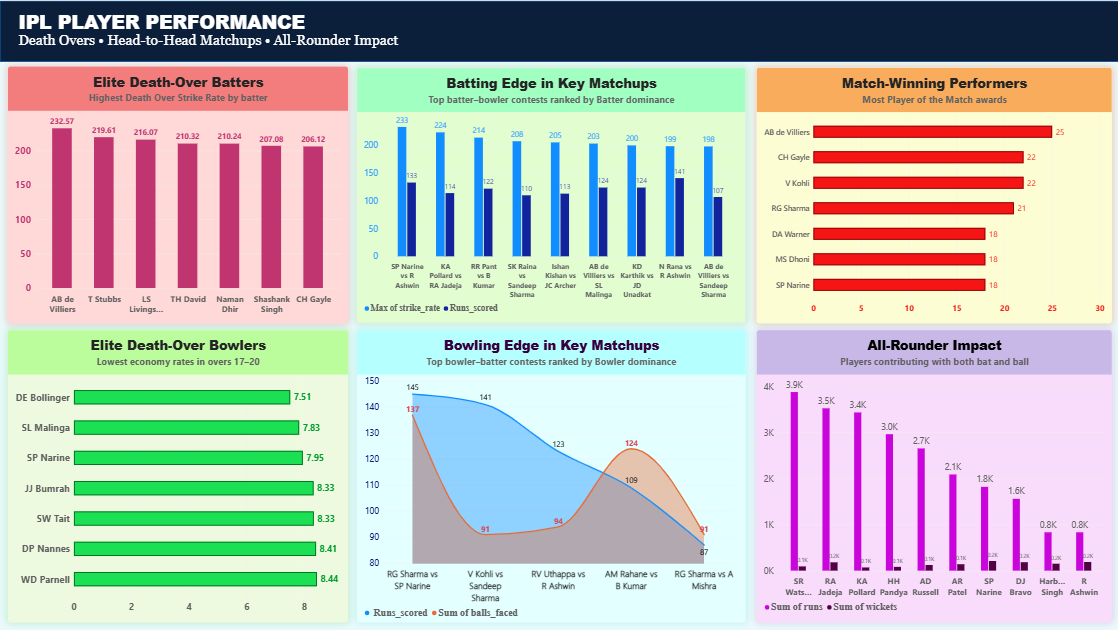

The page's visual inventory and layout, read from the dashboard file:
{"tool":"powerbi","page":{"name":"Player performance","canvas":[2560,1440],"ordinal":1},"visuals":[{"type":"clusteredBarChart","title":"Match-Winning Performers","fields":{"Category":["ipl_analytics matches.player_of_match"],"Y":["ipl_analytics matches.Player of the Match Awards"]},"box":[1727.3,150,813.6,586.4],"z":0},{"type":"clusteredColumnChart","title":"Elite Death-Over Batters","fields":{"Category":["ipl_analytics deliveries.batter"],"Y":["ipl_analytics deliveries.Death Over Strike Rate"]},"box":[15.9,147.7,779.5,588.6],"z":1000},{"type":"clusteredBarChart","title":"Elite Death-Over Bowlers","fields":{"Category":["ipl_analytics deliveries.bowler"],"Y":["ipl_analytics deliveries.Death Over Economy"]},"box":[15.9,752.3,779.5,670.5],"z":2000},{"type":"clusteredColumnChart","title":"Batting Edge in Key Matchups","fields":{"Category":["ipl_analytics batter_vs_bowler.Matchup"],"Y":["Max(ipl_analytics batter_vs_bowler.strike_rate)","Sum(ipl_analytics batter_vs_bowler.runs_scored)"]},"box":[813.6,150,890.9,586.4],"z":3000},{"type":"areaChart","title":"Bowling Edge in Key Matchups","fields":{"Category":["ipl_analytics batter_vs_bowler.Matchup"],"Y":["Sum(ipl_analytics batter_vs_bowler.runs_scored)","Sum(ipl_analytics batter_vs_bowler.balls_faced)"]},"box":[813.6,752.3,890.9,670.5],"z":4000},{"type":"clusteredColumnChart","title":"All-Rounder Impact","fields":{"Category":["ipl_analytics player_season_stats.player"],"Y":["Sum(ipl_analytics player_season_stats.runs)","Sum(ipl_analytics player_season_stats.wickets)"]},"box":[1727.3,752.3,813.6,670.5],"z":5000},{"type":"shape","box":[0,0,2561,139],"z":6000},{"type":"textbox","box":[0,17.1,1900,78],"z":7000},{"type":"textbox","box":[0,70.7,1919.5,68.3],"z":8000}]}

Visuals, with their boxes in screenshot pixels (x1, y1, x2, y2), scaled from the page's 2560x1440 canvas onto the 1118x630 screenshot:
"Match-Winning Performers" clusteredBarChart: <bbox>754, 66, 1110, 322</bbox>
"Elite Death-Over Batters" clusteredColumnChart: <bbox>7, 65, 347, 322</bbox>
"Elite Death-Over Bowlers" clusteredBarChart: <bbox>7, 329, 347, 622</bbox>
"Batting Edge in Key Matchups" clusteredColumnChart: <bbox>355, 66, 744, 322</bbox>
"Bowling Edge in Key Matchups" areaChart: <bbox>355, 329, 744, 622</bbox>
"All-Rounder Impact" clusteredColumnChart: <bbox>754, 329, 1110, 622</bbox>
shape: <bbox>0, 0, 1117, 61</bbox>
textbox: <bbox>0, 7, 830, 42</bbox>
textbox: <bbox>0, 31, 838, 61</bbox>
